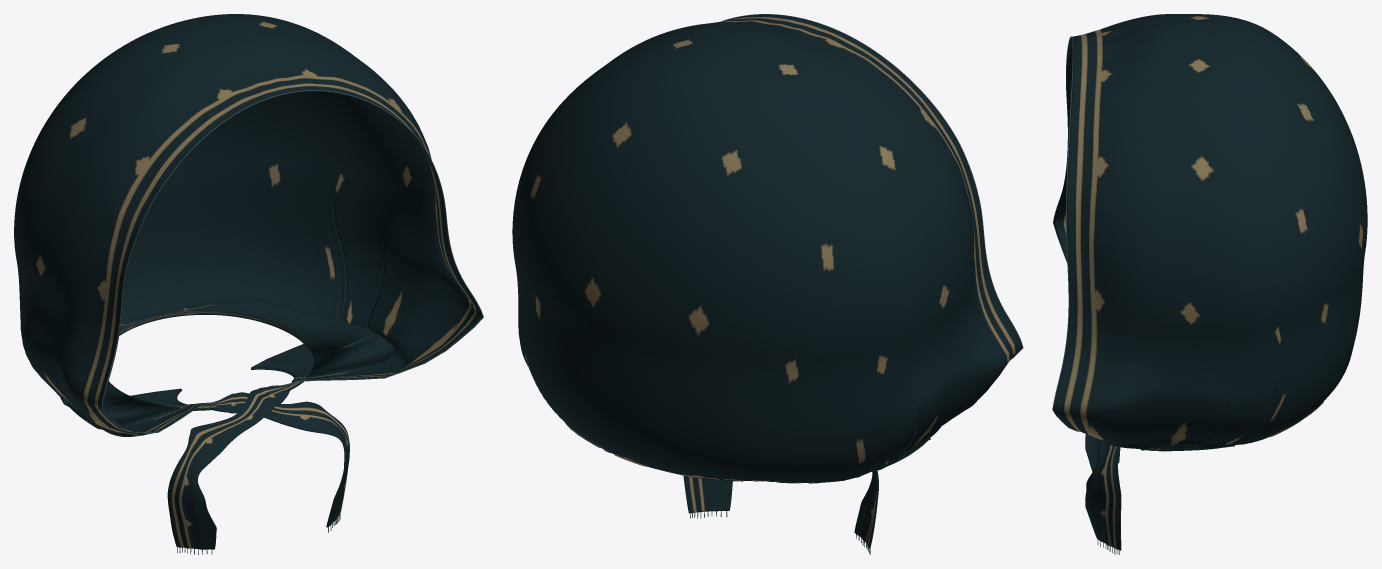
File: Feminine-box-braids-jersey-pashmina250-headgear.glb
3 renders of one model, left to right at view 1: azimuth 30°, elevation 25°; view 2: azimuth 150°, elevation 25°; view 3: azimuth 270°, elevation 25°, orthographic. The views are drawn at different scales.
Parts seen in each view (by area): view 1: 226 headgear / Headwear / continuous woven pashmina239, 226 headgear / Headwear / face edge239; view 2: 226 headgear / Headwear / continuous woven pashmina239, 226 headgear / Headwear / face edge239; view 3: 226 headgear / Headwear / continuous woven pashmina239, 226 headgear / Headwear / face edge239.
Boxes of the visible parts, box(x1,y1,x2,y2) form: 226 headgear / Headwear / continuous woven pashmina239: box(14, 14, 482, 549); 226 headgear / Headwear / face edge239: box(101, 90, 483, 433); 226 headgear / Headwear / continuous woven pashmina239: box(512, 14, 1022, 548); 226 headgear / Headwear / face edge239: box(721, 14, 1023, 360); 226 headgear / Headwear / continuous woven pashmina239: box(1053, 14, 1367, 550); 226 headgear / Headwear / face edge239: box(1052, 36, 1078, 431).
Size of the model in its own units: 1.19 by 1.4 by 0.8327.
Materials: 3 (1 with a texture image).
